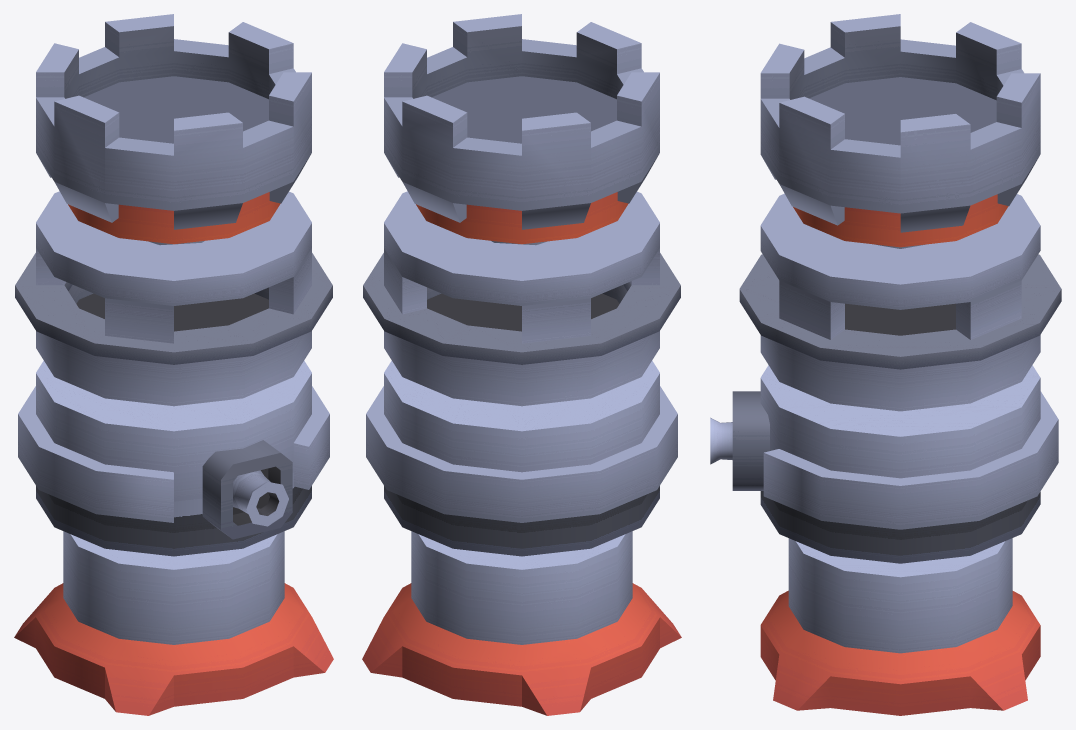
Rendered from ballista_3.glb.
3 renders of one model, left to right at view 1: azimuth 30°, elevation 25°; view 2: azimuth 150°, elevation 25°; view 3: azimuth 270°, elevation 25°, orthographic.
Parts seen in each view (by area): view 1: ballista_3; view 2: ballista_3; view 3: ballista_3.
Part boxes in pixels (left/top/right/bottom): ballista_3: left=14, top=14, right=333, bottom=715; ballista_3: left=362, top=14, right=681, bottom=715; ballista_3: left=710, top=14, right=1061, bottom=715.
Bounding box in the file's own units: 1.15 × 2.3 × 1.25.
4 materials, 4 textured.
